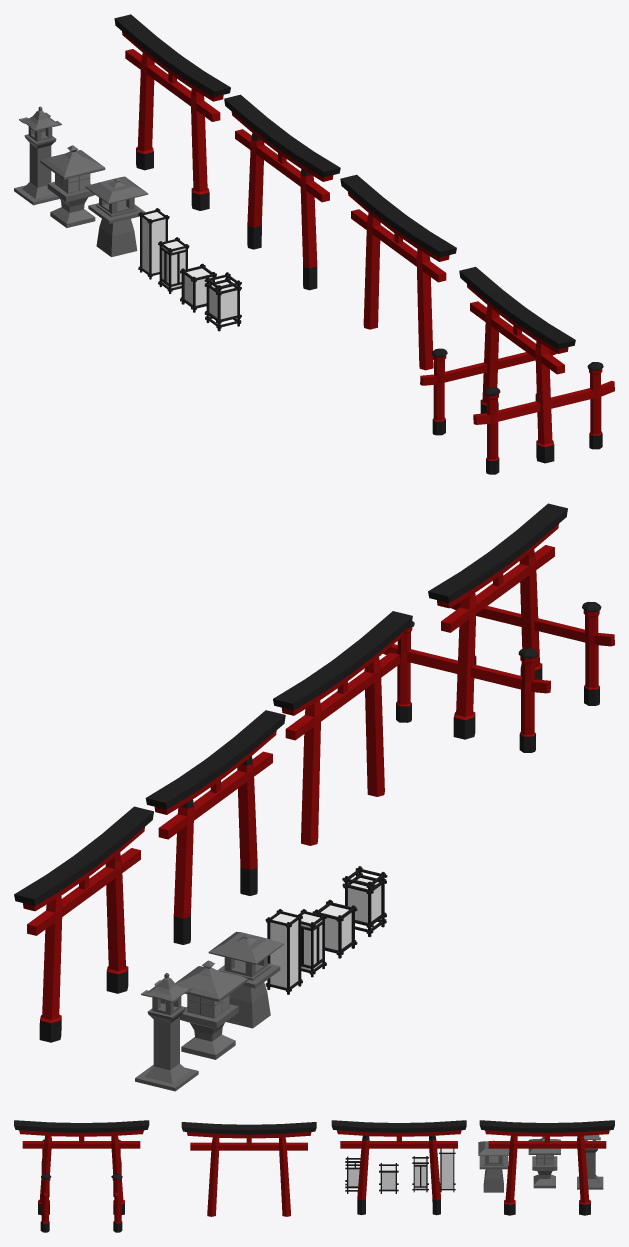
File: low_poly_japan_1.glb
The picture shows the model from 3 angles, top to bottom: view 1: azimuth 30°, elevation 25°; view 2: azimuth 150°, elevation 25°; view 3: azimuth 270°, elevation 25°; orthographic projection. The views are drawn at different scales.
Visible parts, largest first — view 1: Shrine_Gate_4, Shrine_Gate_1, Shrine_Gate_2, Shrine_Gate_3, Shrine_Statue_3, Shrine_Statue_2, Shrine_Statue_1, Shrine_Lamp_4, Shrine_Lamp_1, Shrine_Lamp_2, Shrine_Lamp_3; view 2: Shrine_Gate_4, Shrine_Gate_1, Shrine_Gate_2, Shrine_Gate_3, Shrine_Statue_2, Shrine_Statue_3, Shrine_Statue_1, Shrine_Lamp_1, Shrine_Lamp_4, Shrine_Lamp_3, Shrine_Lamp_2; view 3: Shrine_Gate_4, Shrine_Gate_1, Shrine_Gate_3, Shrine_Gate_2, Shrine_Statue_3, Shrine_Statue_2, Shrine_Lamp_1, Shrine_Statue_1, Shrine_Lamp_2, Shrine_Lamp_3, Shrine_Lamp_4.
Boxes of the visible parts, box(x1,y1,x2,y2) form: Shrine_Gate_4: box(420, 266, 614, 474); Shrine_Gate_1: box(114, 14, 230, 210); Shrine_Gate_2: box(224, 94, 340, 290); Shrine_Gate_3: box(340, 174, 456, 370); Shrine_Statue_3: box(85, 176, 148, 257); Shrine_Statue_2: box(40, 145, 105, 227); Shrine_Statue_1: box(14, 106, 61, 205); Shrine_Lamp_4: box(204, 272, 241, 331); Shrine_Lamp_1: box(138, 208, 169, 279); Shrine_Lamp_2: box(158, 237, 189, 293); Shrine_Lamp_3: box(180, 263, 216, 312); Shrine_Gate_4: box(383, 503, 614, 752); Shrine_Gate_1: box(14, 806, 153, 1042); Shrine_Gate_2: box(145, 710, 285, 944); Shrine_Gate_3: box(273, 611, 412, 845); Shrine_Statue_2: box(175, 960, 247, 1059); Shrine_Statue_3: box(208, 931, 283, 1028); Shrine_Statue_1: box(135, 973, 198, 1091); Shrine_Lamp_1: box(265, 909, 302, 994); Shrine_Lamp_4: box(342, 866, 387, 936); Shrine_Lamp_3: box(312, 899, 357, 958); Shrine_Lamp_2: box(300, 909, 326, 977); Shrine_Gate_4: box(14, 1120, 149, 1232); Shrine_Gate_1: box(479, 1120, 614, 1215); Shrine_Gate_3: box(181, 1122, 316, 1216); Shrine_Gate_2: box(331, 1120, 466, 1215); Shrine_Statue_3: box(478, 1140, 509, 1192); Shrine_Statue_2: box(528, 1136, 560, 1188); Shrine_Lamp_1: box(439, 1148, 455, 1192); Shrine_Statue_1: box(577, 1134, 603, 1189); Shrine_Lamp_2: box(412, 1156, 428, 1192); Shrine_Lamp_3: box(379, 1163, 398, 1193); Shrine_Lamp_4: box(345, 1156, 360, 1193).
Size of the model in its own units: 744 by 534 by 2971.
Materials: 2 (2 with a texture image).
